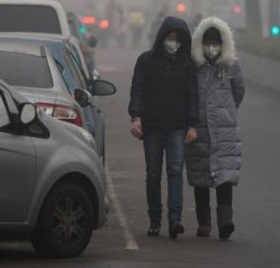person: (128, 15, 195, 240), (183, 15, 249, 239), (128, 8, 145, 50), (113, 8, 127, 48), (147, 12, 166, 41)
